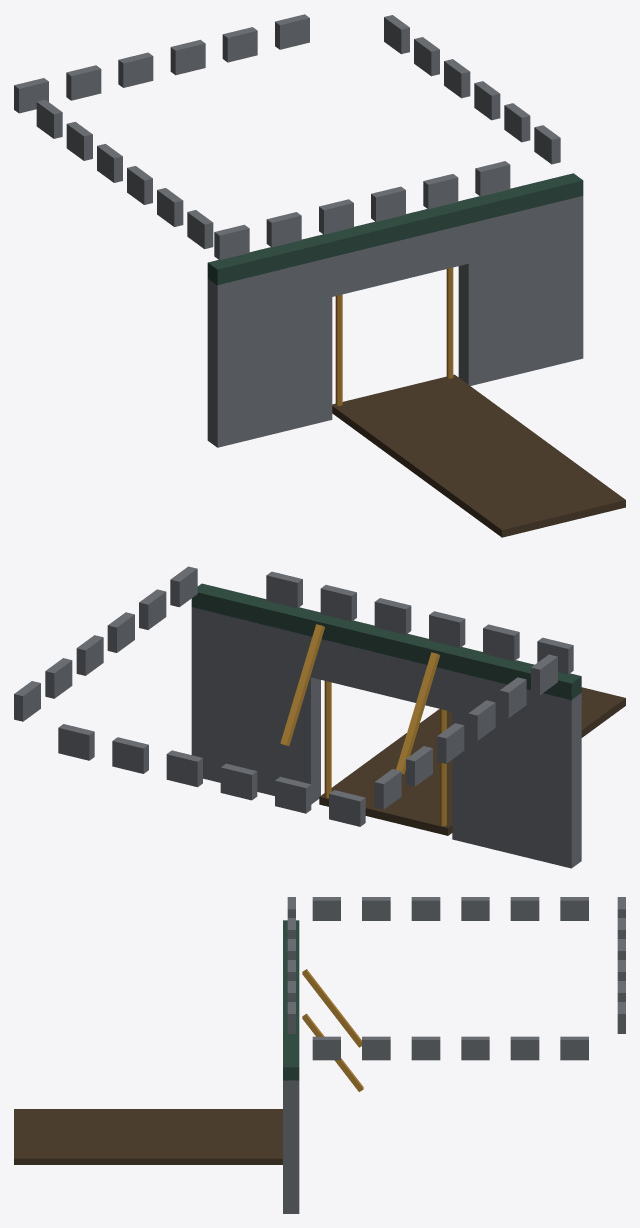
Rendered from Drawbridge.fbx.
The picture shows the model from 3 angles, top to bottom: view 1: azimuth 30°, elevation 25°; view 2: azimuth 150°, elevation 25°; view 3: azimuth 270°, elevation 25°; orthographic projection. The views are drawn at different scales.
Visible parts, largest first — view 1: Drawbridge; view 2: Drawbridge; view 3: Drawbridge.
Boxes of the visible parts, bbox=[...] form: Drawbridge: bbox=[14, 14, 625, 537]; Drawbridge: bbox=[14, 566, 625, 868]; Drawbridge: bbox=[14, 897, 625, 1213].
Bounding box in the file's own units: 1122 × 612 × 1976.
Materials: 4 (4 with a texture image).
